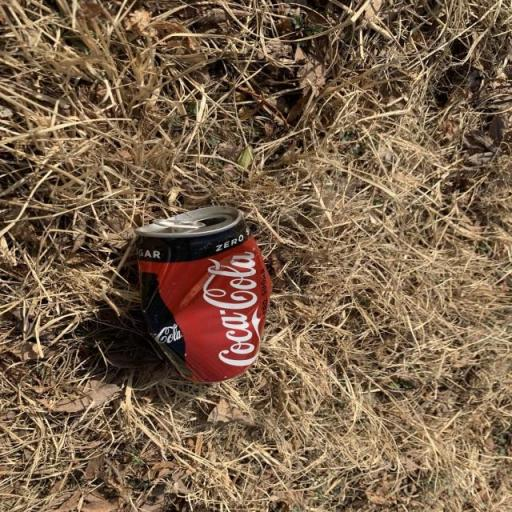metal: (106, 191, 304, 397)
